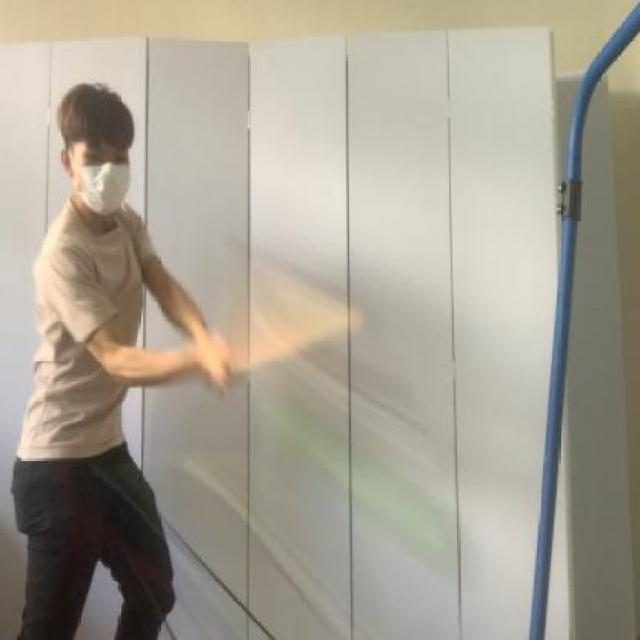baseball: (247, 383, 479, 580)
